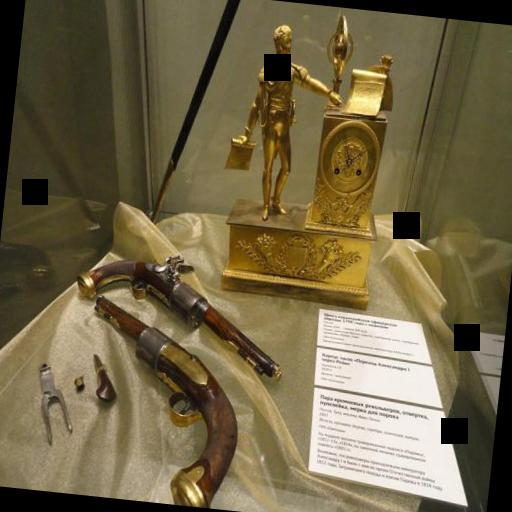Handgun: (73, 288, 261, 510), (66, 238, 292, 380)
